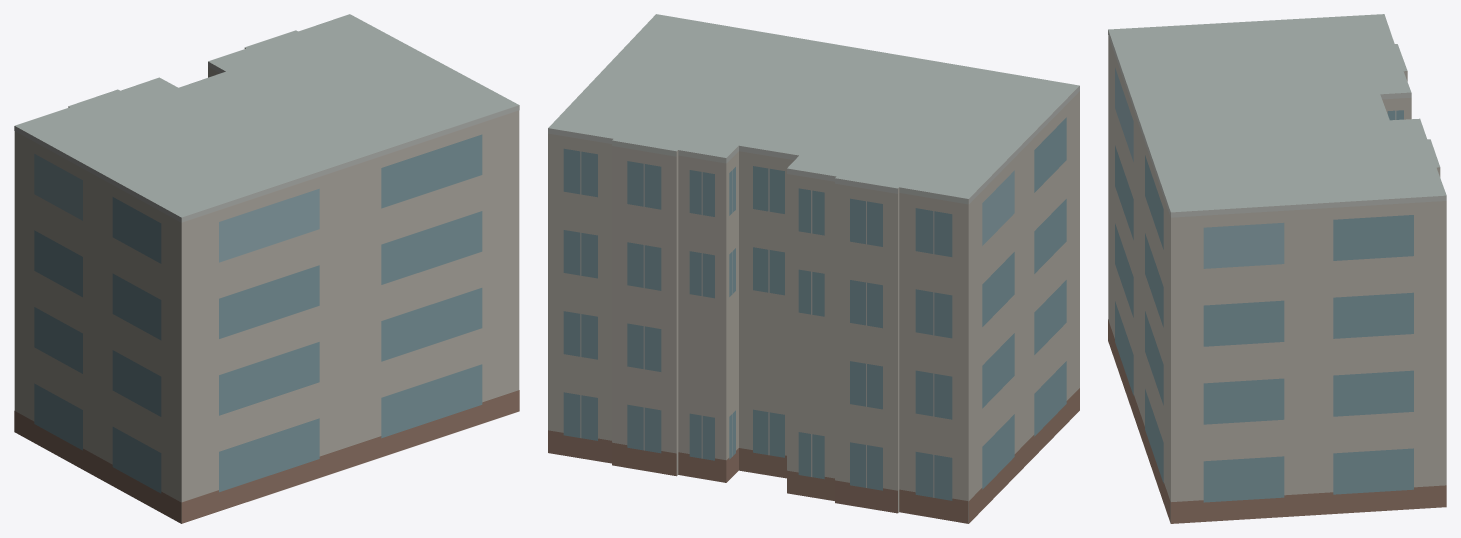
File: survey-upis-32684735.glb
The picture shows the model from 3 angles, left to right: view 1: azimuth 30°, elevation 25°; view 2: azimuth 150°, elevation 25°; view 3: azimuth 270°, elevation 25°; orthographic projection. The views are drawn at different scales.
Parts seen in each view (by area): view 1: survey-upis-32684735.tmp; view 2: survey-upis-32684735.tmp; view 3: survey-upis-32684735.tmp.
Boxes of the visible parts, <box> form: survey-upis-32684735.tmp: <box>14,14,519,523</box>; survey-upis-32684735.tmp: <box>548,14,1079,523</box>; survey-upis-32684735.tmp: <box>1108,14,1446,523</box>.
Bounding box in the file's own units: 19.75 × 14.45 × 14.25.
